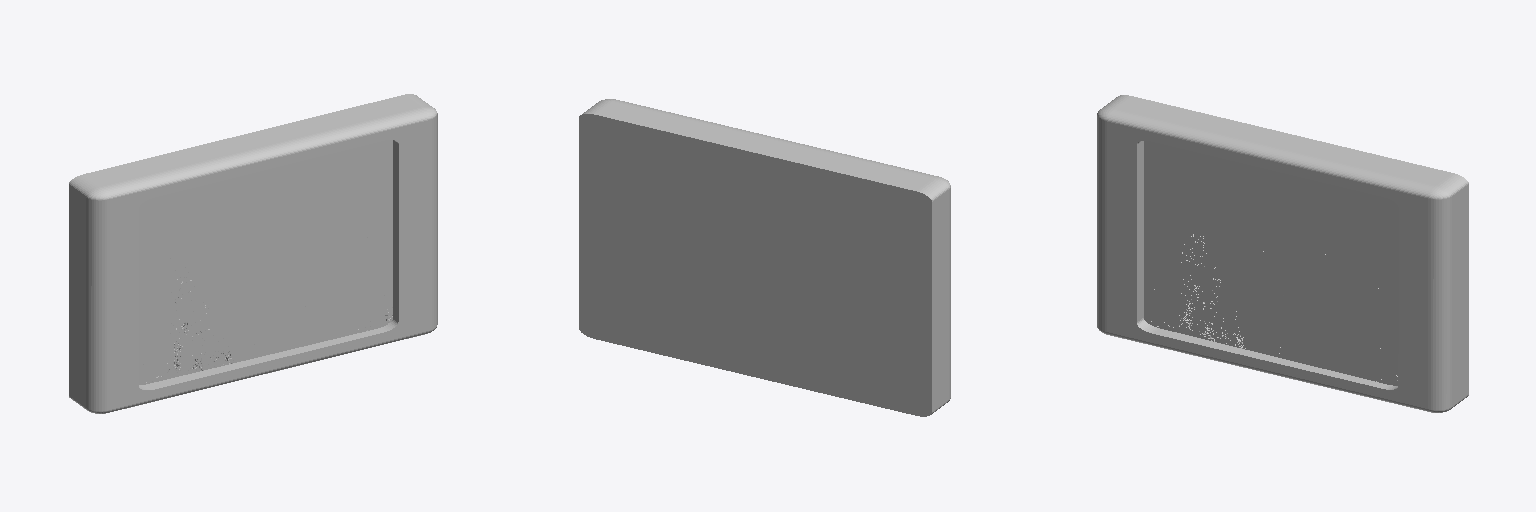
Rendered from Starry Starry Night.obj.
3 renders of one model, left to right at view 1: azimuth 30°, elevation 25°; view 2: azimuth 150°, elevation 25°; view 3: azimuth 330°, elevation 25°, orthographic.
Visible parts, largest first — view 1: Object.2, Object.1; view 2: Object.1; view 3: Object.2, Object.1.
Boxes of the visible parts, x1,y1,x2,y2 form: Object.2: [139, 140, 392, 384]; Object.1: [69, 94, 437, 413]; Object.1: [579, 99, 950, 416]; Object.2: [1144, 141, 1398, 385]; Object.1: [1097, 95, 1468, 412].
Bounding box in the file's own units: 190 × 116 × 25.19.